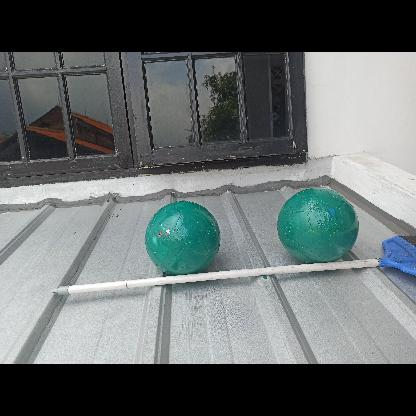green_ball: (276, 183, 358, 265), (144, 201, 220, 278)
